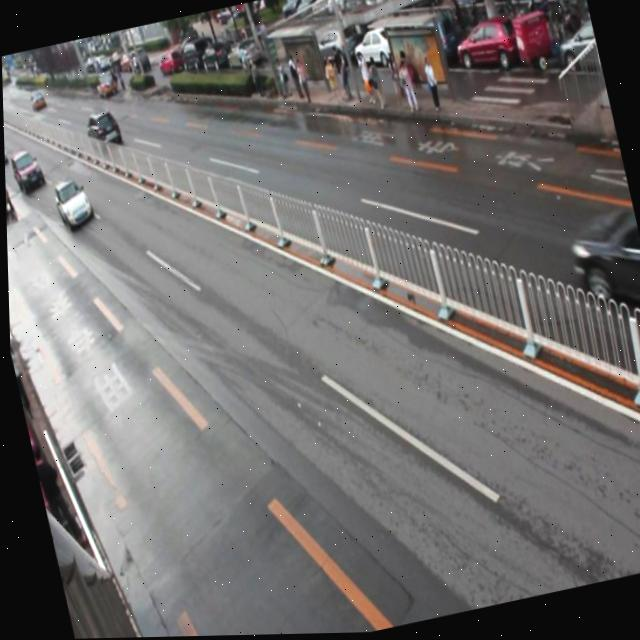car: (558, 198, 640, 349), (51, 174, 95, 232), (82, 108, 122, 153)
